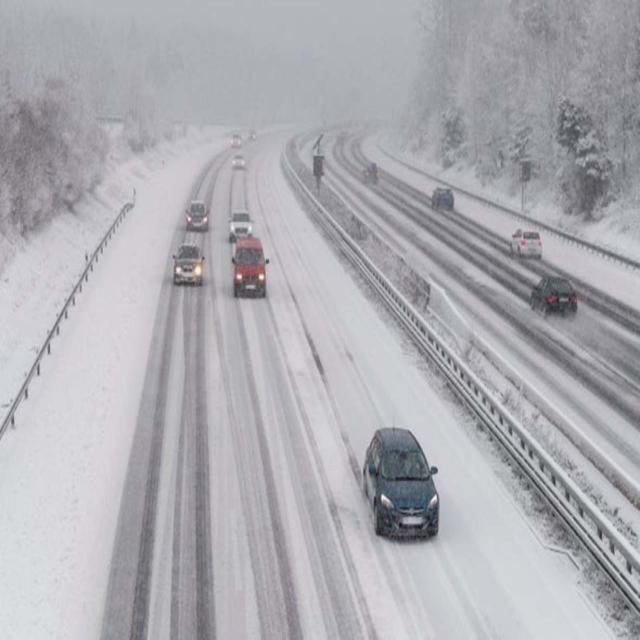car: (364, 427, 442, 542), (231, 239, 268, 299), (530, 276, 578, 318), (172, 244, 205, 287), (510, 226, 542, 262), (186, 199, 209, 231), (228, 211, 254, 239), (430, 185, 454, 212), (360, 162, 379, 184), (232, 154, 246, 168), (246, 128, 258, 142), (230, 134, 241, 147)
